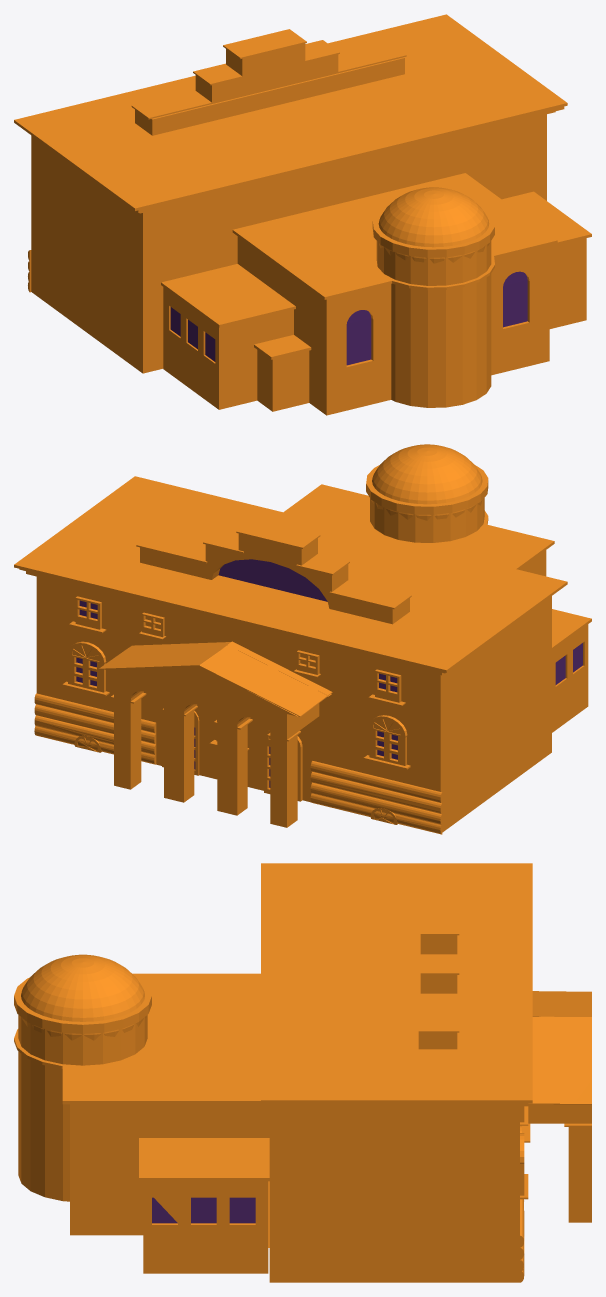
The model's file is Laźnia-Rogatka Lubelska.fbx.
The picture shows the model from 3 angles, top to bottom: view 1: azimuth 30°, elevation 25°; view 2: azimuth 150°, elevation 25°; view 3: azimuth 270°, elevation 25°; orthographic projection. The views are drawn at different scales.
Parts seen in each view (by area): view 1: Laznia_Rogatka_Lubelska_Laznia_cala_; view 2: Laznia_Rogatka_Lubelska_Laznia_cala_; view 3: Laznia_Rogatka_Lubelska_Laznia_cala_.
Boxes of the visible parts, <box> form: Laznia_Rogatka_Lubelska_Laznia_cala_: <box>14,14,591,415</box>; Laznia_Rogatka_Lubelska_Laznia_cala_: <box>14,444,591,834</box>; Laznia_Rogatka_Lubelska_Laznia_cala_: <box>14,863,591,1282</box>.
Size of the model in its own units: 41.33 by 20.67 by 42.61.
1 material, 1 textured.
